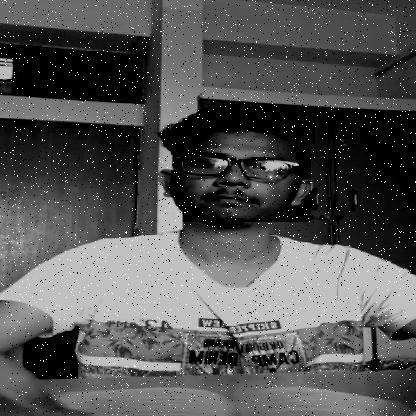Normal: (171, 124, 311, 222)
